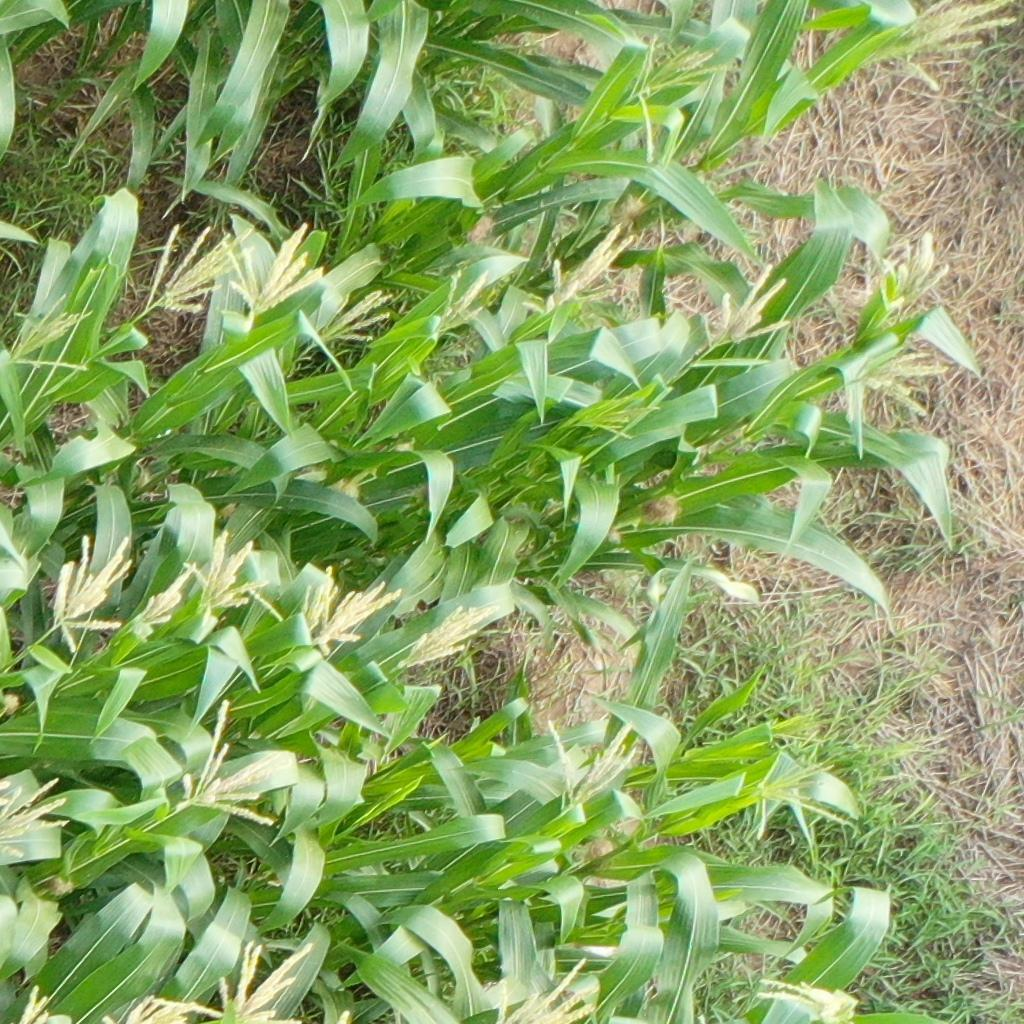Tassel: (176, 696, 286, 831), (872, 1, 1020, 98), (632, 31, 734, 164), (140, 219, 256, 324), (521, 225, 638, 322), (47, 531, 134, 657), (539, 711, 644, 813), (739, 745, 856, 835), (217, 222, 327, 317), (194, 936, 312, 1019), (851, 344, 950, 430), (7, 292, 104, 377), (710, 262, 800, 353), (401, 595, 501, 676), (184, 527, 274, 613), (245, 573, 344, 649), (490, 955, 596, 1024), (1, 767, 74, 867), (317, 565, 402, 647), (878, 226, 955, 313), (131, 557, 200, 643), (562, 388, 663, 443), (315, 286, 396, 353), (752, 976, 857, 1024), (434, 264, 491, 339), (97, 991, 198, 1024), (769, 707, 841, 745), (18, 982, 53, 1024)
